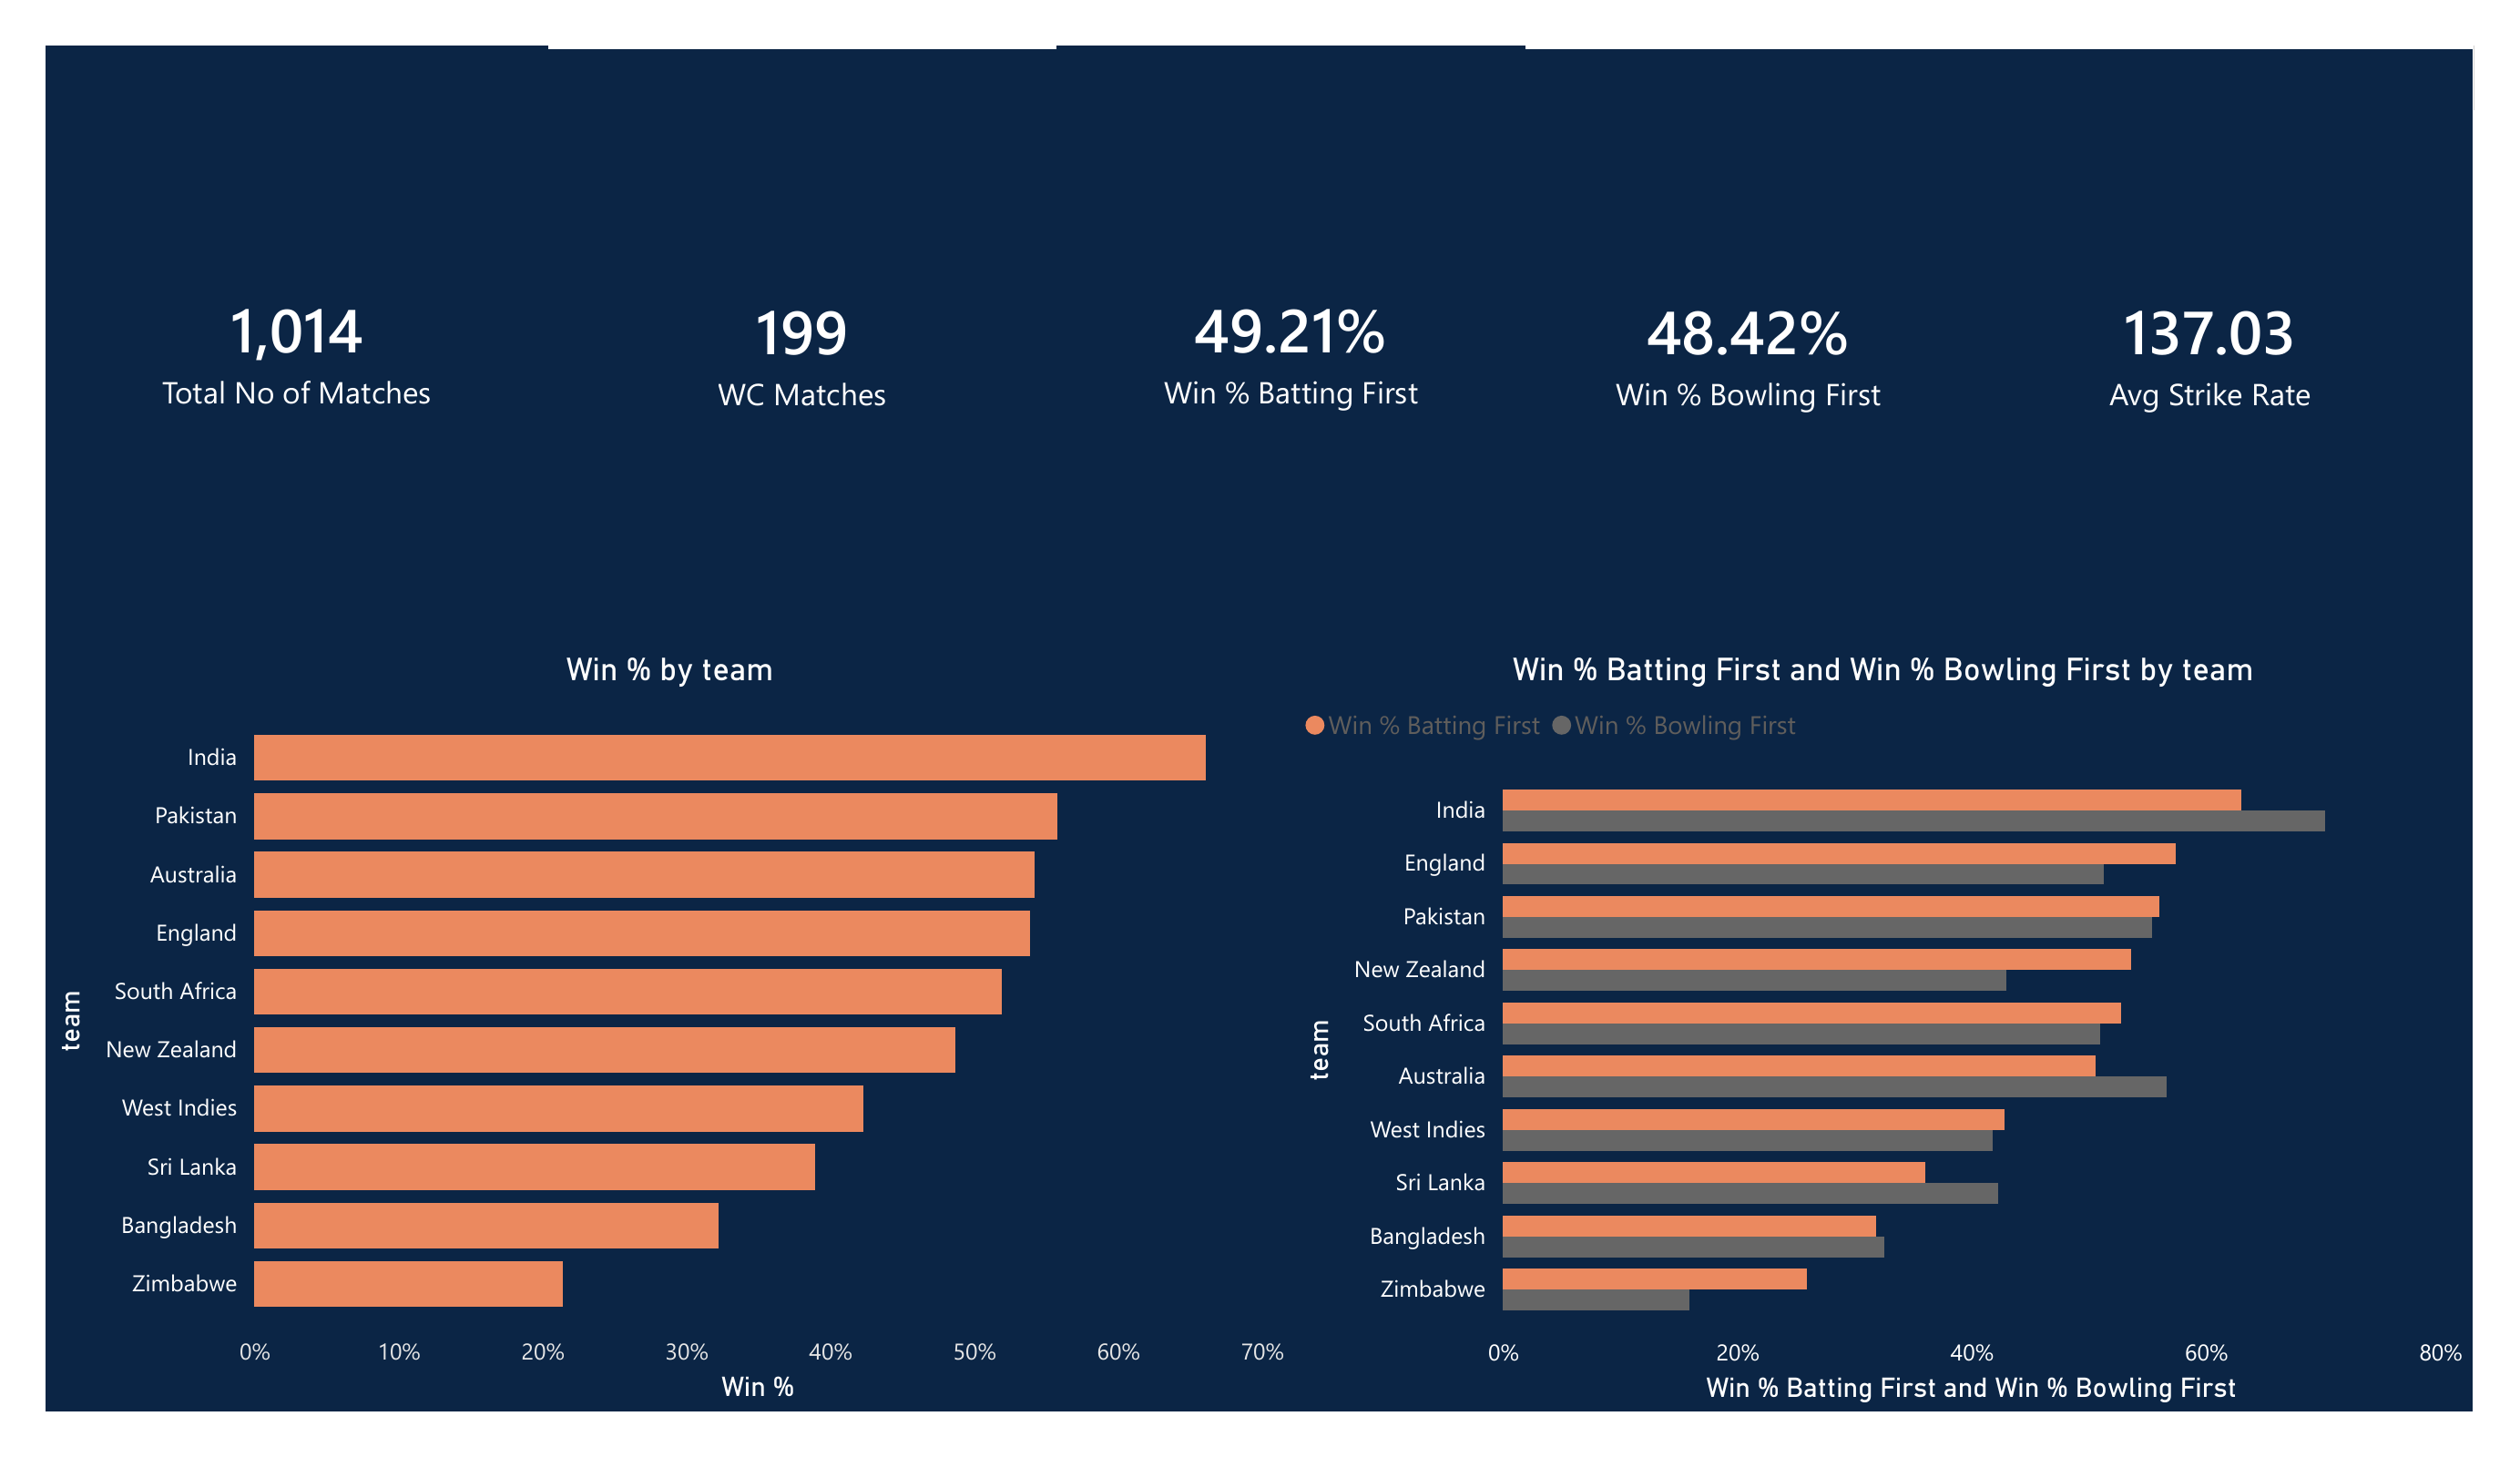

The dashboard page shown, as its layout file describes it:
{"tool":"powerbi","page":{"name":"Page 1","canvas":[1280,720],"ordinal":0},"visuals":[{"type":"clusteredBarChart","fields":{"Category":["team_matches.team"],"Y":["team_matches.Win %"]},"box":[0,319.4,657.6,400.6],"z":0},{"type":"clusteredBarChart","fields":{"Category":["team_matches.team"],"Y":["team_matches.Win % Batting First","team_matches.Win % Bowling First"]},"box":[657.6,319.4,621.7,400.6],"z":1000},{"type":"cardVisual","fields":{"Data":["matches.Total Matches"]},"box":[0,0,264.6,321.3],"z":6001},{"type":"cardVisual","fields":{"Data":["matches.WC Matches"]},"box":[264.6,1.9,268.3,319.4],"z":6002},{"type":"cardVisual","fields":{"Data":["team_matches.Win % Batting First"]},"box":[532.9,0,247.6,321.3],"z":6003},{"type":"cardVisual","fields":{"Data":["team_matches.Win % Bowling First"]},"box":[767.2,1.9,260.8,319.4],"z":6004},{"type":"cardVisual","fields":{"Data":["team_matches.Avg Strike Rate"]},"box":[1003.5,1.9,275.9,319.4],"z":6006}]}

Visuals, with their boxes on the page's 1280x720 design canvas (x1, y1, x2, y2). These are canvas units, not pixel positions in the 2520x1457 screenshot, which may show the page scaled, cropped or inside an application window:
clusteredBarChart - team_matches.team x team_matches.Win %: [left=0, top=319, right=658, bottom=720]
clusteredBarChart - team_matches.team x team_matches.Win % Batting First: [left=658, top=319, right=1279, bottom=720]
cardVisual - matches.Total Matches: [left=0, top=0, right=265, bottom=321]
cardVisual - matches.WC Matches: [left=265, top=2, right=533, bottom=321]
cardVisual - team_matches.Win % Batting First: [left=533, top=0, right=780, bottom=321]
cardVisual - team_matches.Win % Bowling First: [left=767, top=2, right=1028, bottom=321]
cardVisual - team_matches.Avg Strike Rate: [left=1004, top=2, right=1279, bottom=321]
